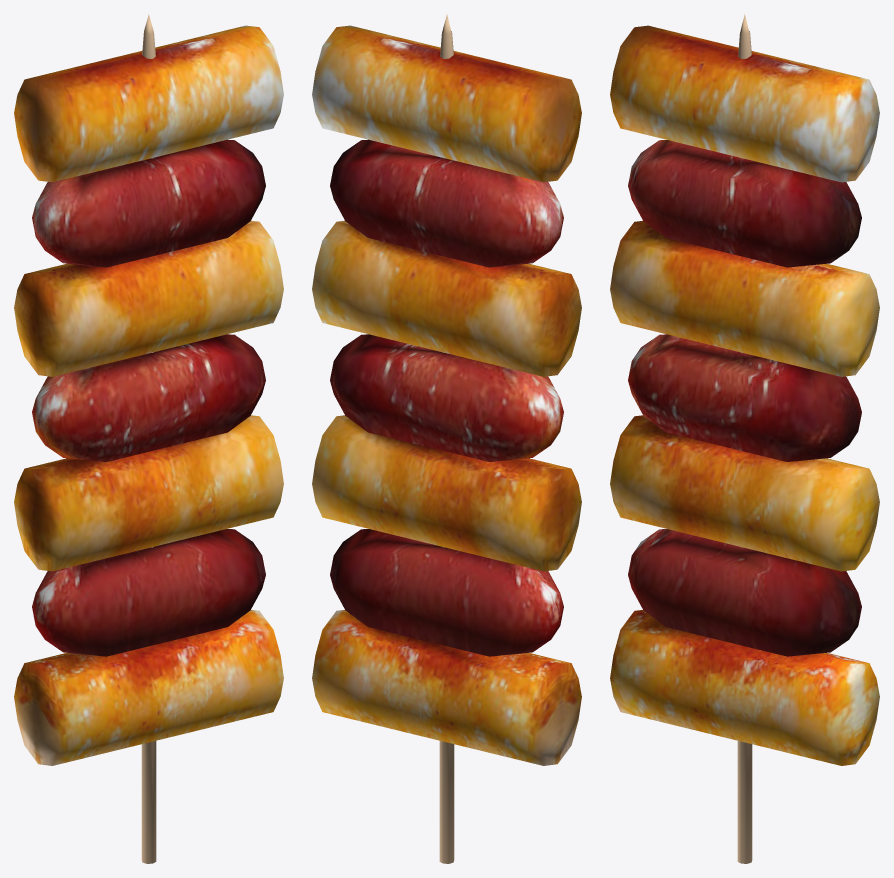
The model's file is Sodduk.fbx.
The picture shows the model from 3 angles, left to right: view 1: azimuth 30°, elevation 25°; view 2: azimuth 150°, elevation 25°; view 3: azimuth 330°, elevation 25°; orthographic projection.
Parts seen in each view (by area): view 1: Sphere; view 2: Sphere; view 3: Sphere.
Boxes of the visible parts, x1,y1,x2,y2 form: Sphere: [14, 14, 283, 863]; Sphere: [312, 14, 581, 863]; Sphere: [610, 14, 879, 863].
Bounding box in the file's own units: 280 × 978 × 108.
2 materials, 1 textured.
